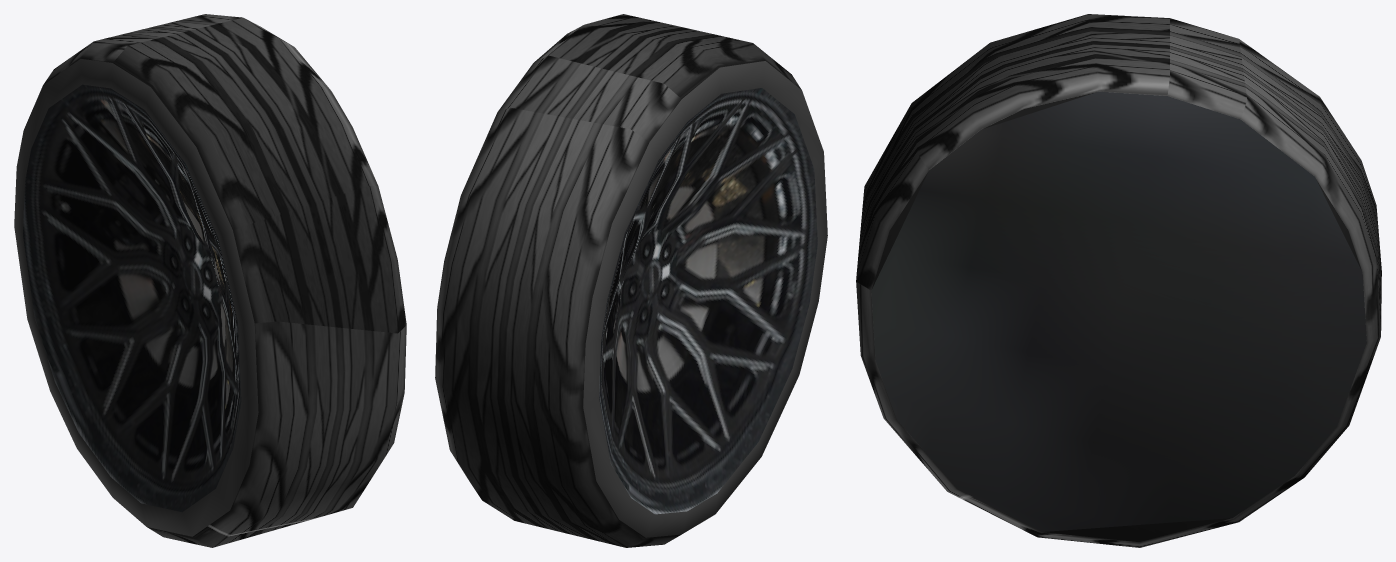
The model's file is wheel3.fbx.
3 views of the same model, side by side, from view 1: azimuth 30°, elevation 25°; view 2: azimuth 150°, elevation 25°; view 3: azimuth 270°, elevation 25° (orthographic).
Parts seen in each view (by area): view 1: Cylinder; view 2: Cylinder; view 3: Cylinder.
Boxes of the visible parts, bbox=[...] form: Cylinder: bbox=[14, 14, 406, 547]; Cylinder: bbox=[435, 14, 827, 547]; Cylinder: bbox=[856, 14, 1381, 547].
Size of the model in its own units: 71.69 by 212 by 212.
1 material, 1 textured.
